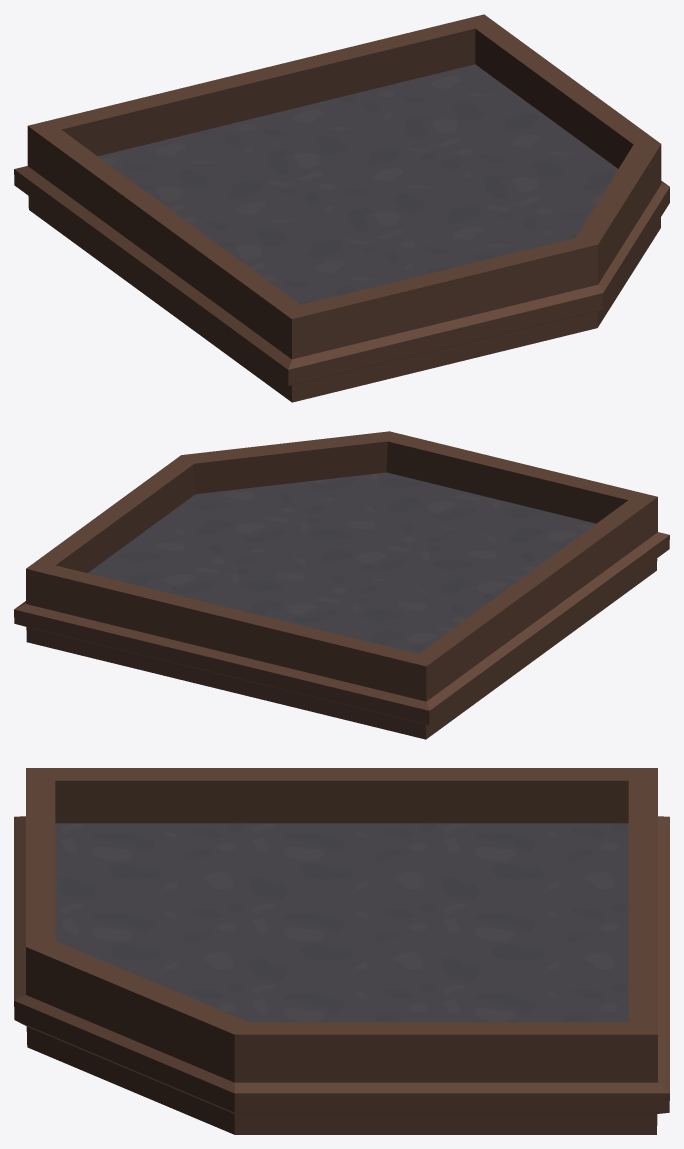
Rendered from RoofTop_E05.fbx.
3 renders of one model, top to bottom at view 1: azimuth 30°, elevation 25°; view 2: azimuth 150°, elevation 25°; view 3: azimuth 270°, elevation 25°, orthographic. The views are drawn at different scales.
Parts seen in each view (by area): view 1: RoofTop_E05; view 2: RoofTop_E05; view 3: RoofTop_E05.
Boxes of the visible parts, <box> form: RoofTop_E05: <box>14,14,669,402</box>; RoofTop_E05: <box>14,431,669,739</box>; RoofTop_E05: <box>14,768,669,1134</box>.
Size of the model in its own units: 638 by 108 by 639.
